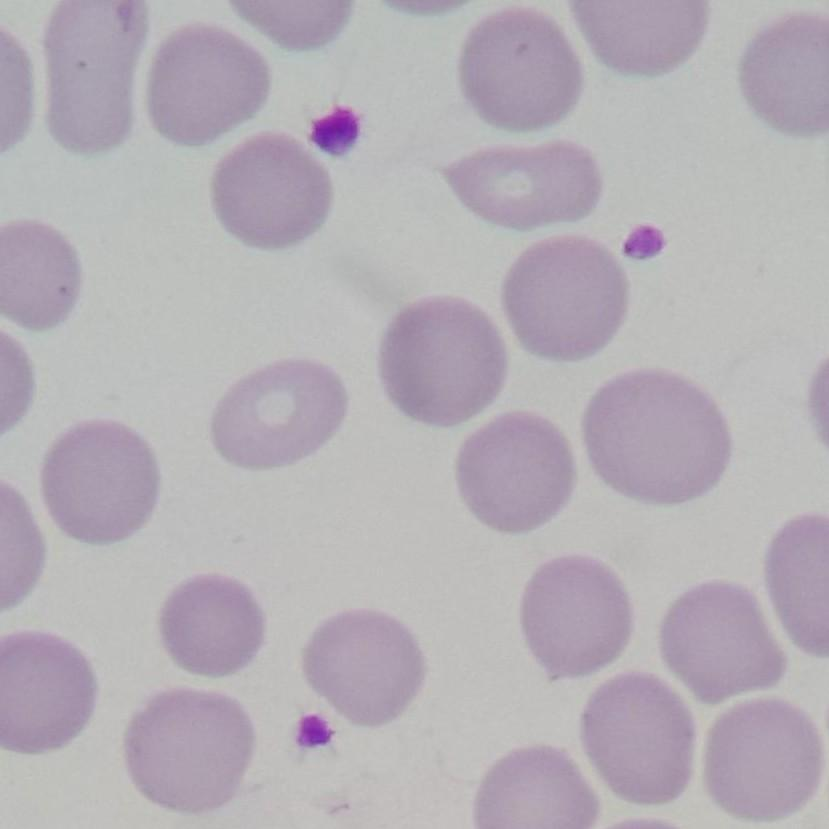Uninfected: (322, 584, 459, 729), (402, 382, 533, 507), (466, 502, 593, 629), (17, 124, 141, 253), (126, 658, 251, 785), (24, 580, 157, 698), (680, 44, 828, 148), (696, 458, 818, 583), (8, 702, 135, 822), (360, 208, 468, 348), (100, 302, 220, 426), (294, 457, 417, 577), (147, 519, 276, 633), (284, 43, 410, 159), (685, 148, 802, 272), (598, 445, 689, 602), (577, 211, 696, 330), (74, 1, 197, 97), (152, 158, 256, 263), (695, 740, 811, 829)
